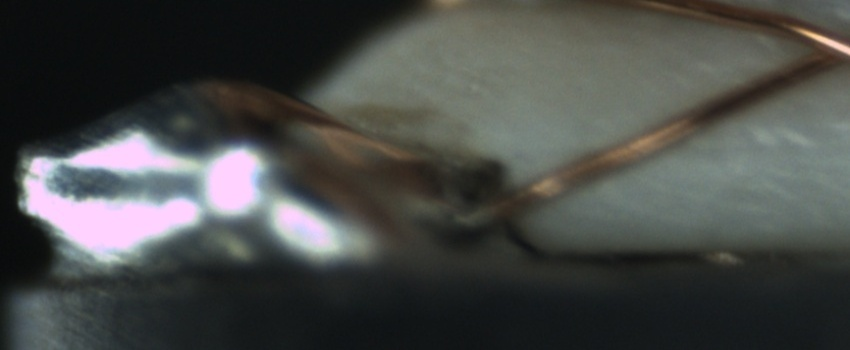CL: (792, 21, 849, 77)
DL: (669, 114, 850, 175)
